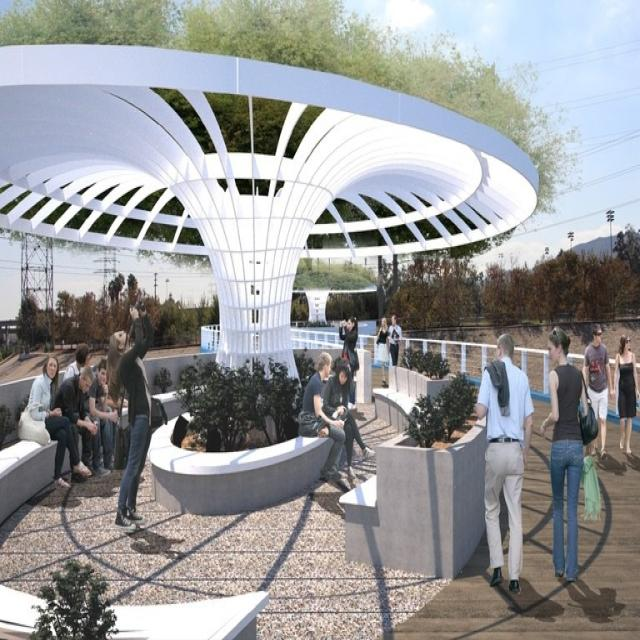body: (538, 325, 602, 587), (474, 330, 535, 596), (105, 297, 154, 532), (15, 352, 93, 490), (482, 572, 626, 624), (296, 348, 347, 483), (48, 363, 98, 484), (322, 356, 375, 468), (27, 468, 149, 512), (582, 323, 614, 461), (87, 355, 118, 478), (612, 332, 640, 456), (123, 525, 189, 564), (318, 460, 378, 497), (338, 316, 360, 414), (593, 443, 640, 476), (386, 312, 403, 386), (62, 342, 92, 382), (374, 316, 390, 386), (344, 402, 369, 424)
